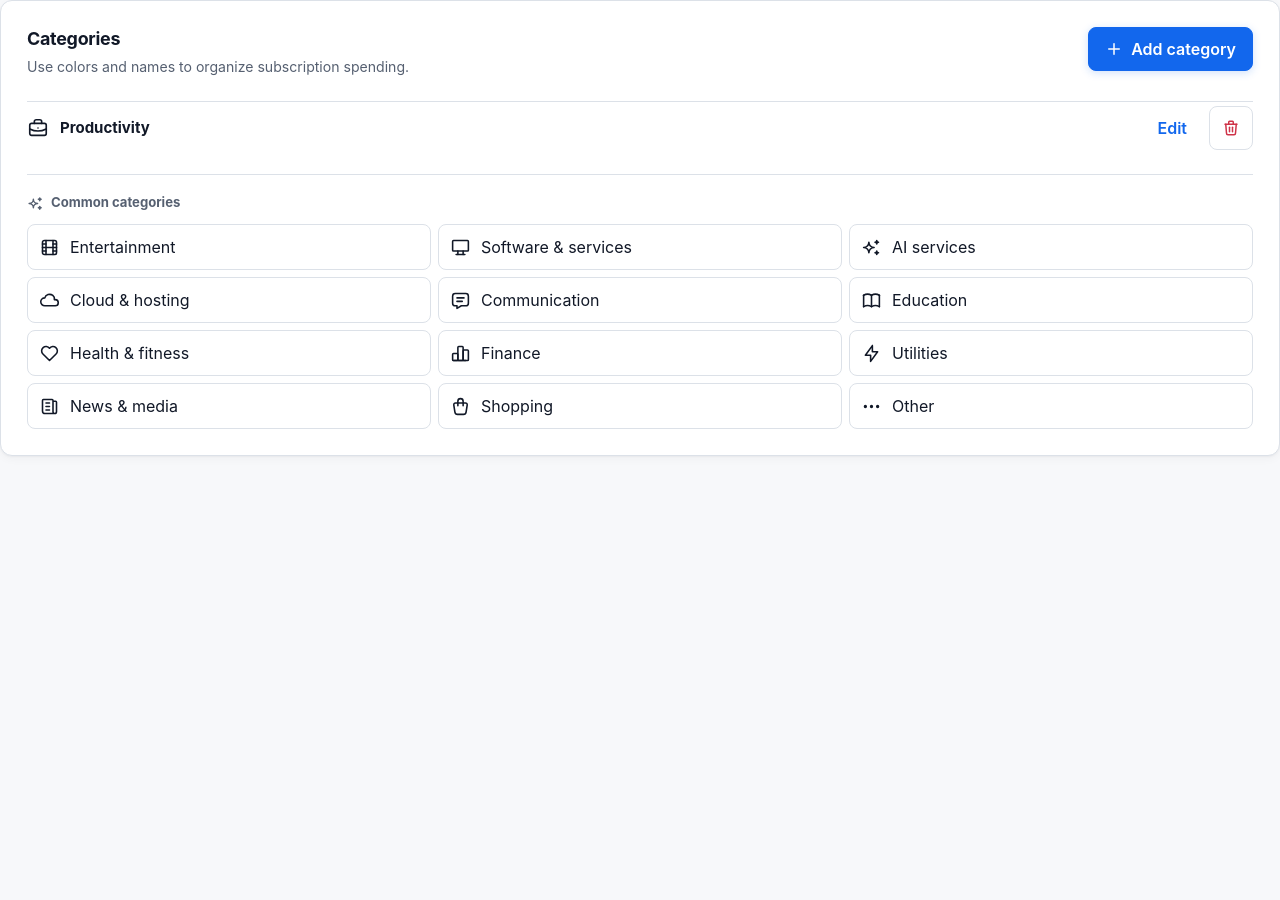
Test: resource Settings › keeps common categories visible beside the compact saved list
The width and height of the screenshot is (1280, 900).
expect the text "Productivity" is shown: met, box [60,117,150,140]
expect the heading "Common categories" is shown: met, box [27,194,180,212]
Click the button "Entertainment".
click(123, 247)  # box [27,224,431,270]
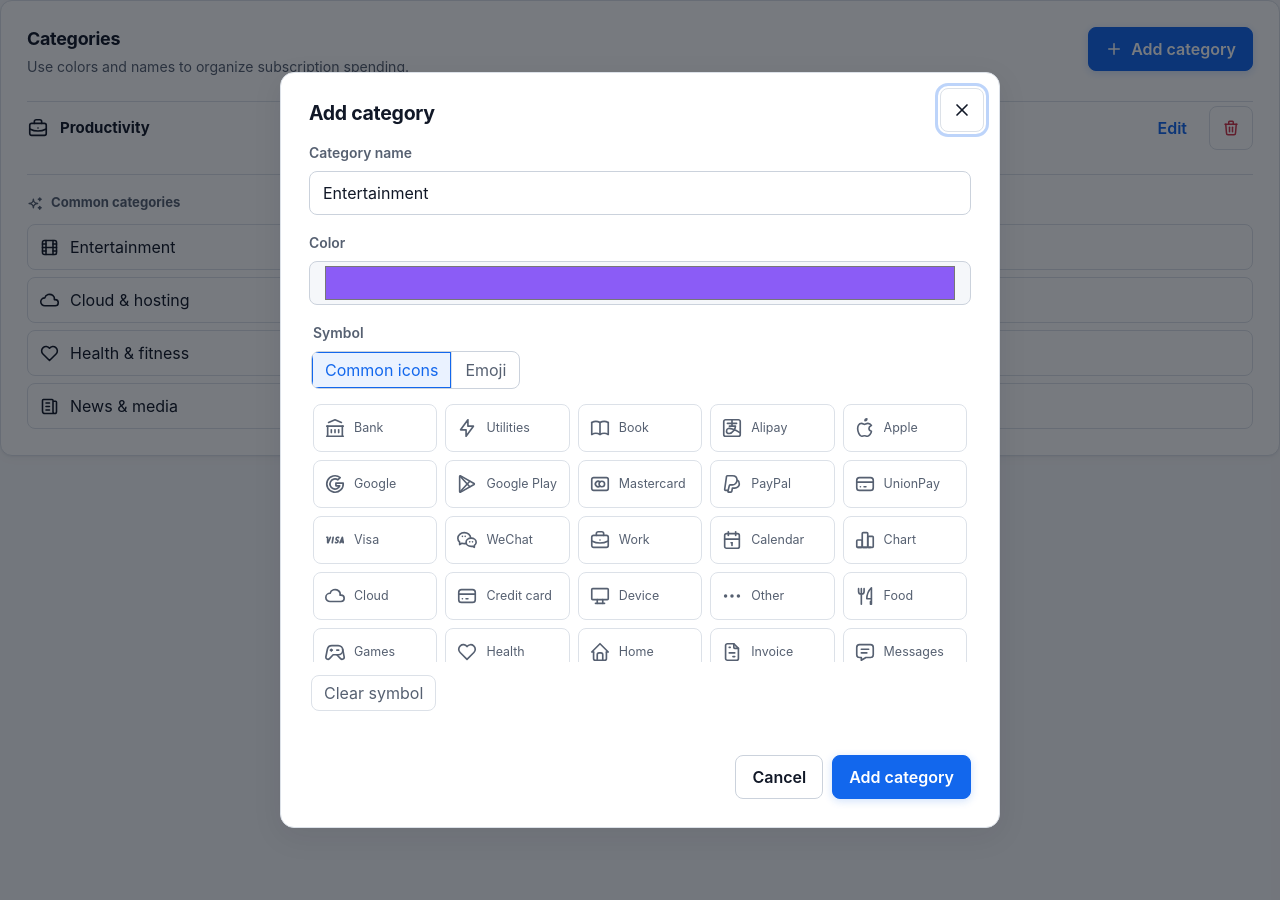
expect the field showing "Entertainment" is shown: met, box [309,171,971,215]
